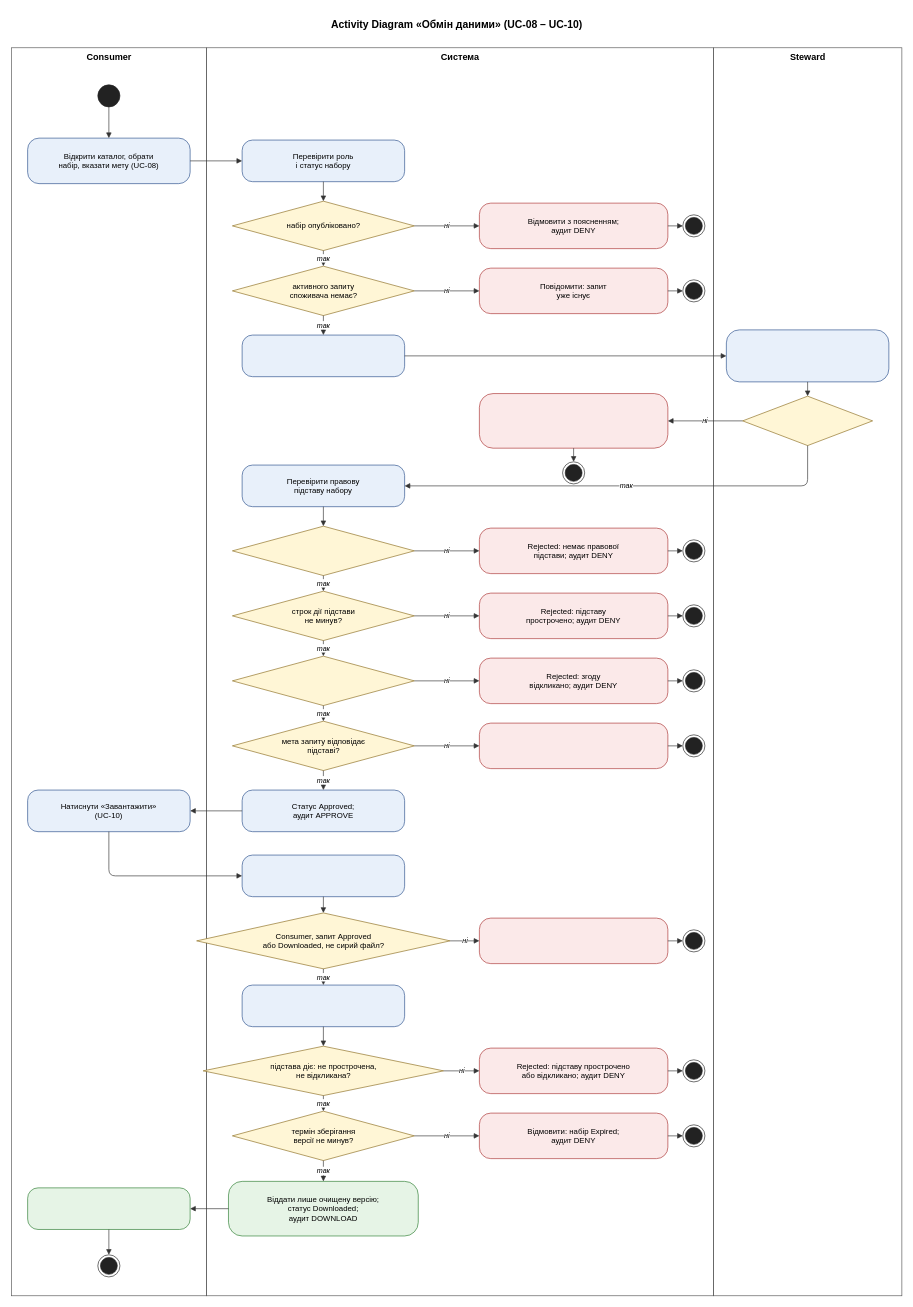
Some shapes in this 913 by 1307 pixel diagram are drawn without their labels. The shapes that lost their labels are listed below. From the top down, each one's centre as x and y in pixels, then its label:
At (x=323, y=355): "Створити запит (Requested); аудит REQUEST".
At (x=807, y=355): "Переглянути запит: споживач, набір, клас, мета (UC-09)".
At (x=573, y=420): "Rejected (відхилено); сповіщення Consumer; аудит DENY".
At (x=807, y=421): "схвалити?".
At (x=323, y=551): "правову підставу зафіксовано?".
At (x=323, y=681): "згоду не відкликано?".
At (x=573, y=745): "Rejected: мета не збігається з підставою; аудит DENY".
At (x=323, y=875): "Перевірити права: роль, клас версії, статус запиту".
At (x=573, y=940): "Відповідь 403, файл не віддано; аудит DENY".
At (x=323, y=1005): "Повторно перевірити правову підставу".
At (x=108, y=1208): "Отримати очищений файл".
